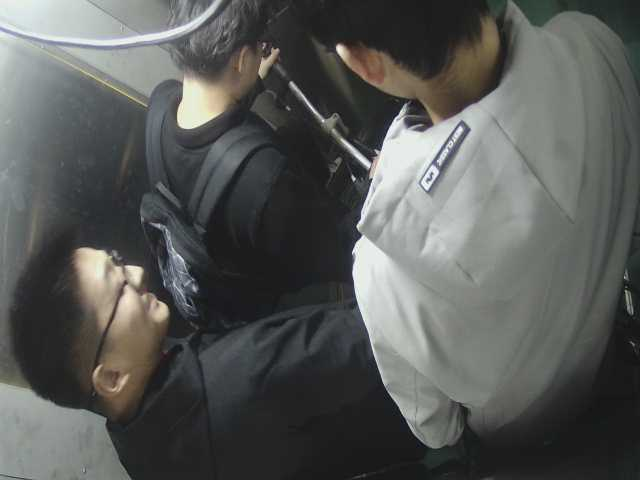bag: (141, 117, 289, 337)
bicycle: (254, 38, 398, 191)
person: (304, 1, 636, 452), (2, 226, 447, 471), (133, 1, 359, 320)
